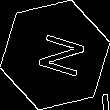N_W: (25, 28, 85, 82)
